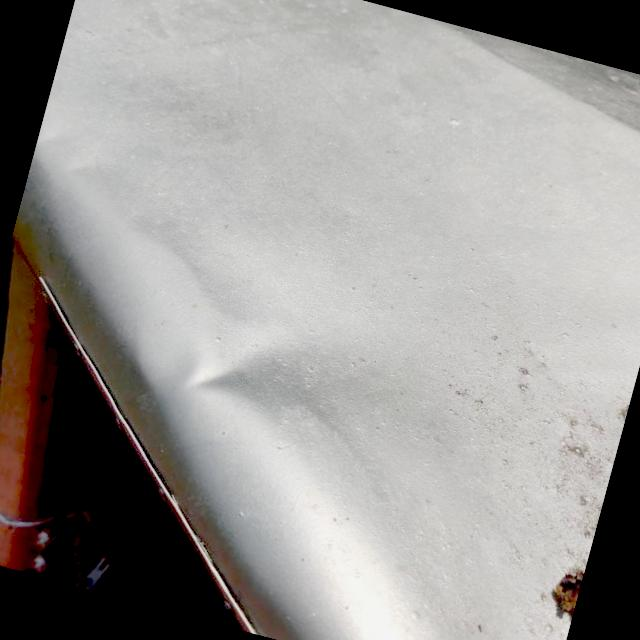dent: (160, 258, 376, 467)
